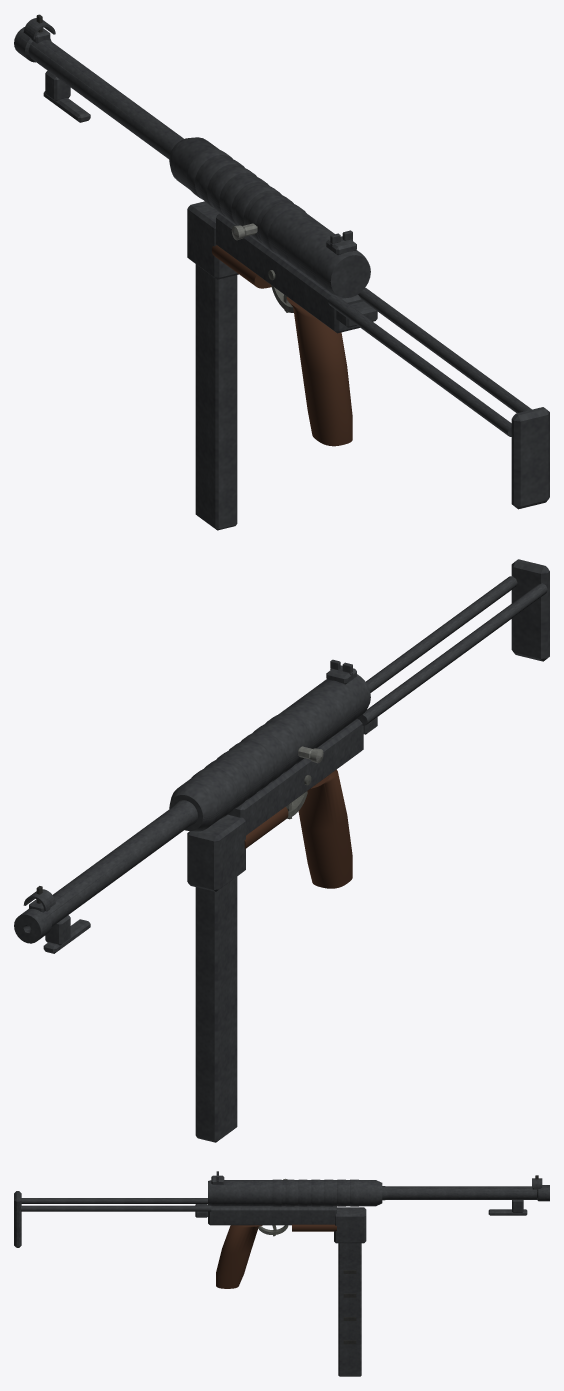
3 views of the same model, one above another, from view 1: azimuth 30°, elevation 25°; view 2: azimuth 150°, elevation 25°; view 3: azimuth 270°, elevation 25° (orthographic). The views are drawn at different scales.
Parts seen in each view (by area): view 1: FP_body, FP_mag, TP_body; view 2: FP_body, FP_mag, TP_body; view 3: FP_body, TP_body, FP_mag.
Boxes of the visible parts, <box> form: FP_body: <box>14,14,549,509</box>; FP_mag: <box>195,264,237,530</box>; TP_body: <box>16,27,370,445</box>; FP_body: <box>14,559,549,953</box>; FP_mag: <box>195,876,237,1142</box>; TP_body: <box>14,680,366,1142</box>; FP_body: <box>14,1171,549,1288</box>; TP_body: <box>208,1183,549,1375</box>; FP_mag: <box>338,1243,361,1376</box>.
Bounding box in the file's own units: 0.0632 × 0.343 × 0.831.
Materials: 5 (4 with a texture image).
